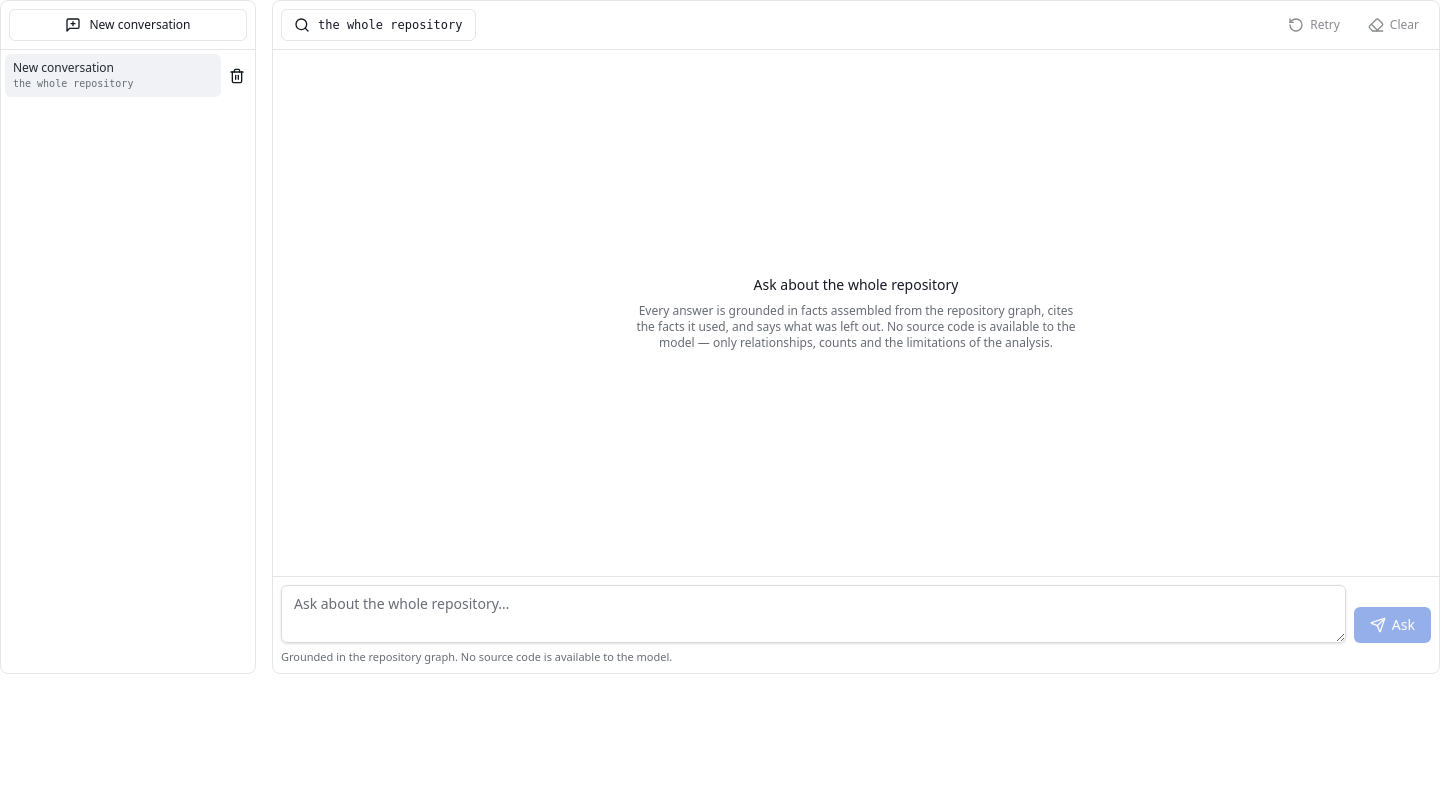
Scenario: asking › lists the citations, each with the capability that established it
The image size is (1440, 810).
Type "How many files?" into the text box named "Ask about the repository" at (813, 614), box top-left (281, 584), bottom-right (1346, 642)
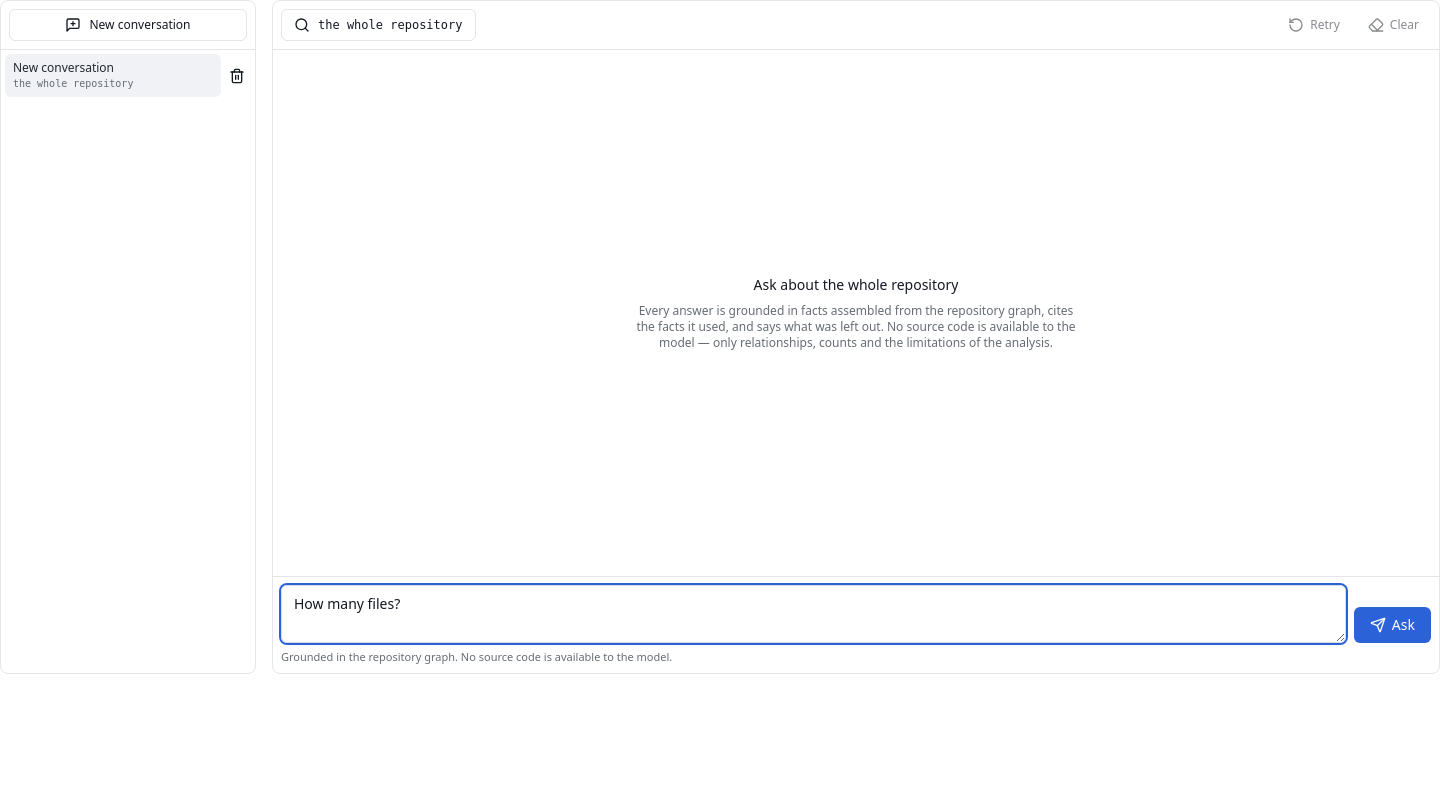
Click the button "Ask" at (1392, 624), box top-left (1354, 606), bottom-right (1431, 642)
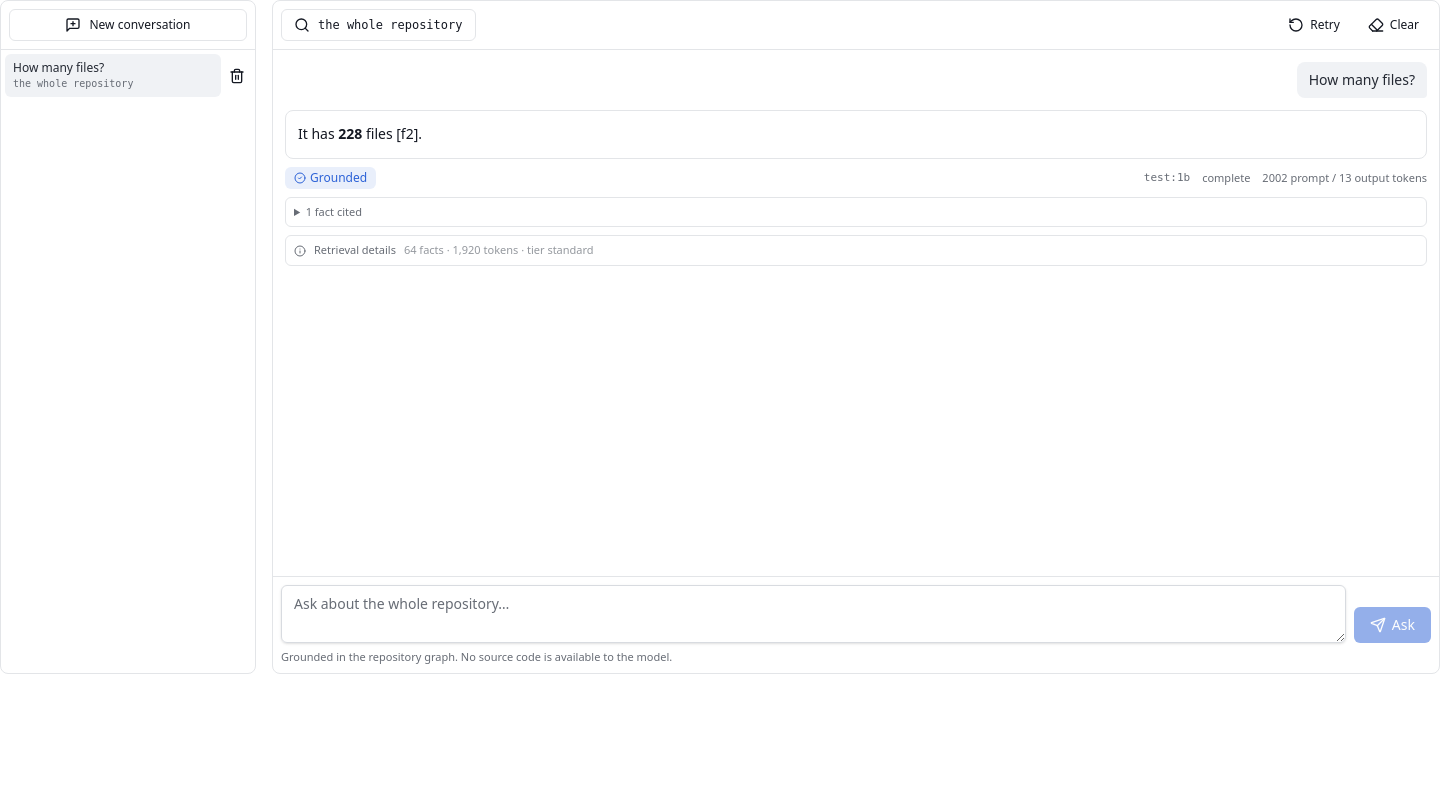
Click the heading "1 fact cited" at (334, 211), box top-left (306, 204), bottom-right (362, 219)
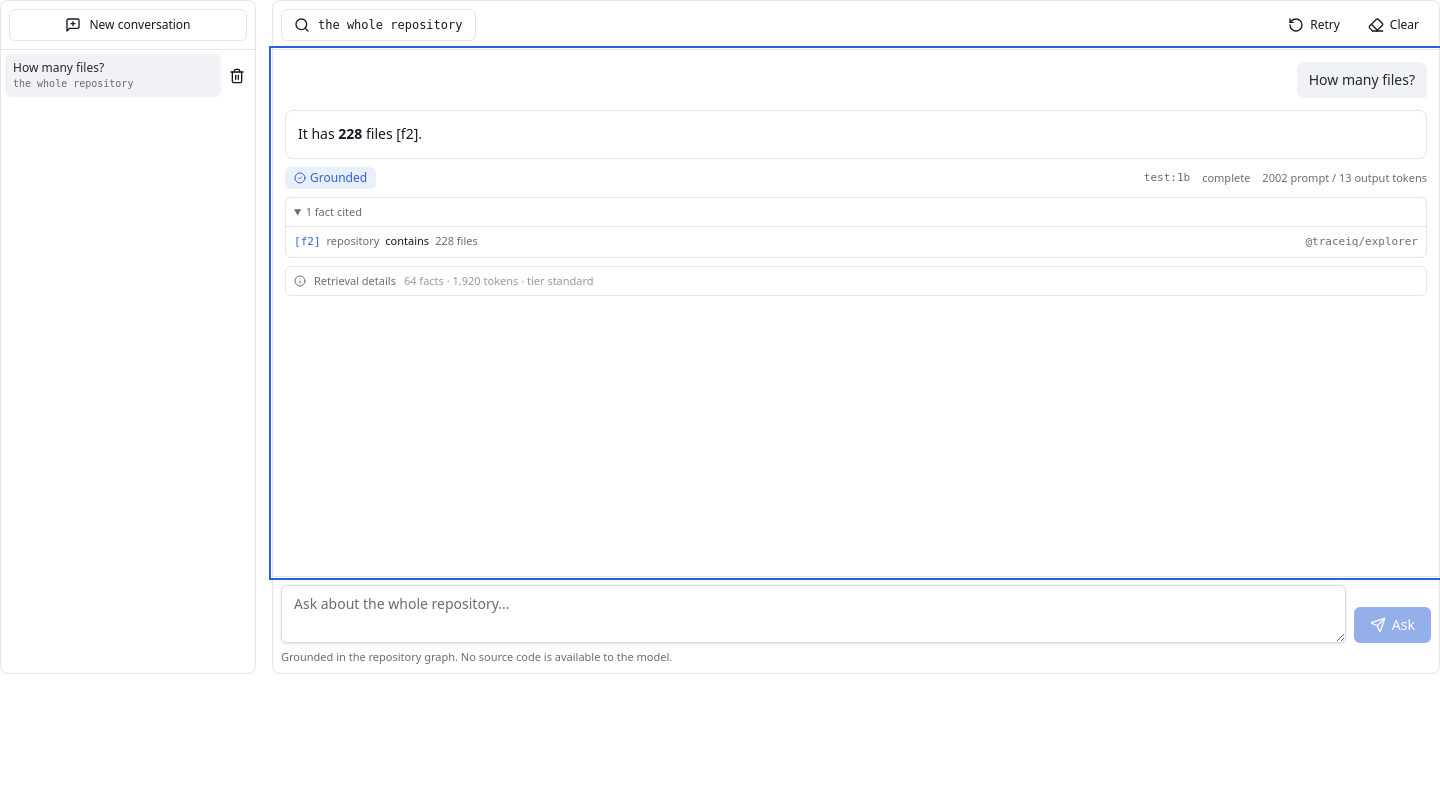
Expected: the text "[f2]" is shown, top-left (294, 234), bottom-right (320, 251)
Expected: the text "contains" is shown, top-left (385, 233), bottom-right (429, 250)
Expected: the text "@traceiq/explorer" is shown, top-left (1305, 234), bottom-right (1418, 251)
